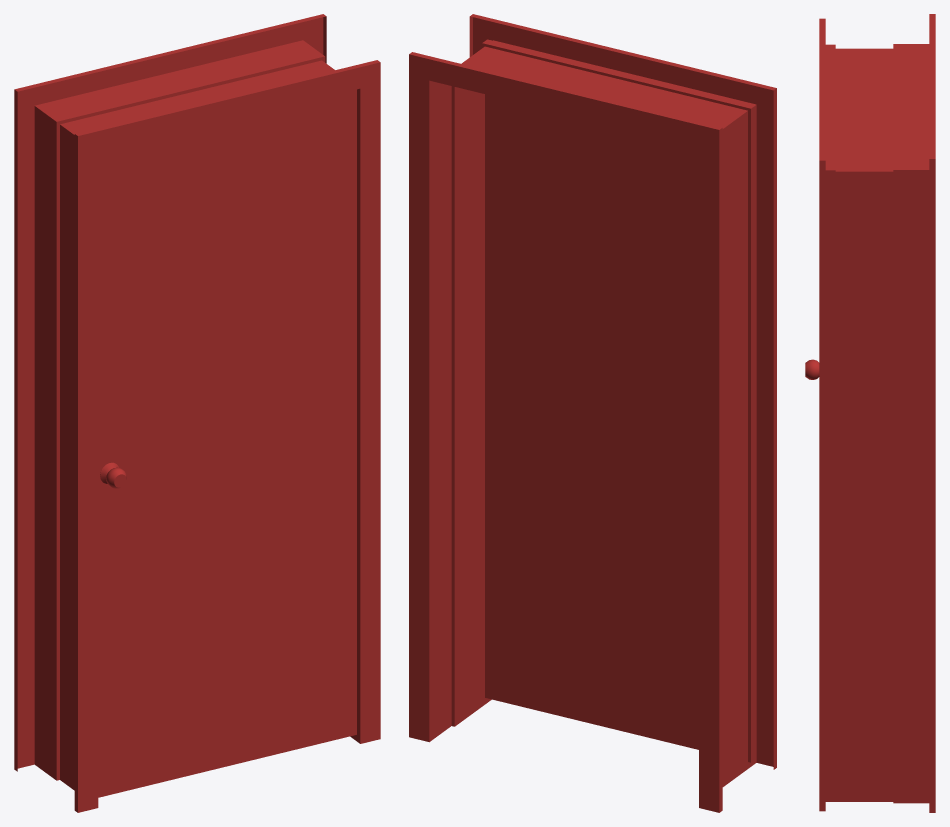
Rendered from Door_Interior.fbx.
The picture shows the model from 3 angles, left to right: view 1: azimuth 30°, elevation 25°; view 2: azimuth 150°, elevation 25°; view 3: azimuth 270°, elevation 25°; orthographic projection. The views are drawn at different scales.
Parts seen in each view (by area): view 1: Door_wide.007, Door_wide.005; view 2: Door_wide.007, Door_wide.005; view 3: Door_wide.005, Door_wide.007.
Part boxes in pixels (x1,y1,x2,y2): Door_wide.007: [98, 89, 356, 797]; Door_wide.005: [14, 14, 380, 812]; Door_wide.007: [482, 39, 756, 762]; Door_wide.005: [409, 14, 776, 812]; Door_wide.005: [819, 14, 935, 812]; Door_wide.007: [805, 44, 835, 796].
Size of the model in its own units: 78.28 by 165 by 29.72.
